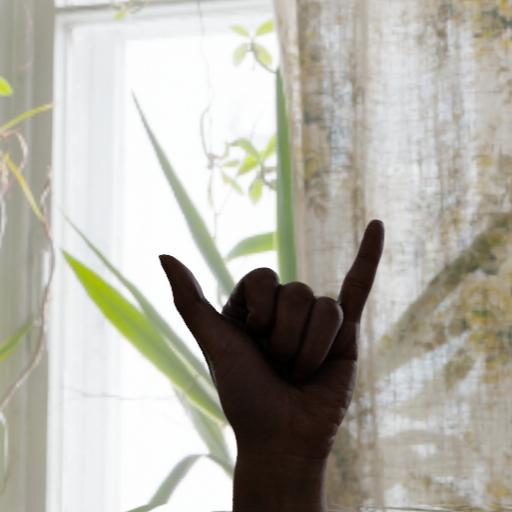Y: (148, 210, 394, 464)
